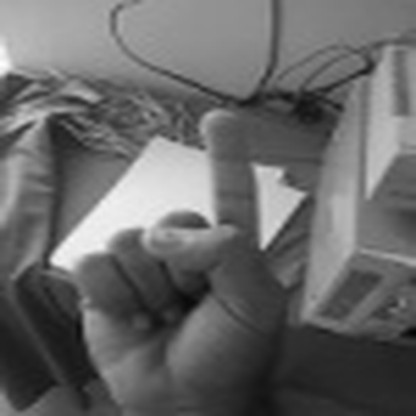d: (73, 98, 291, 412)
